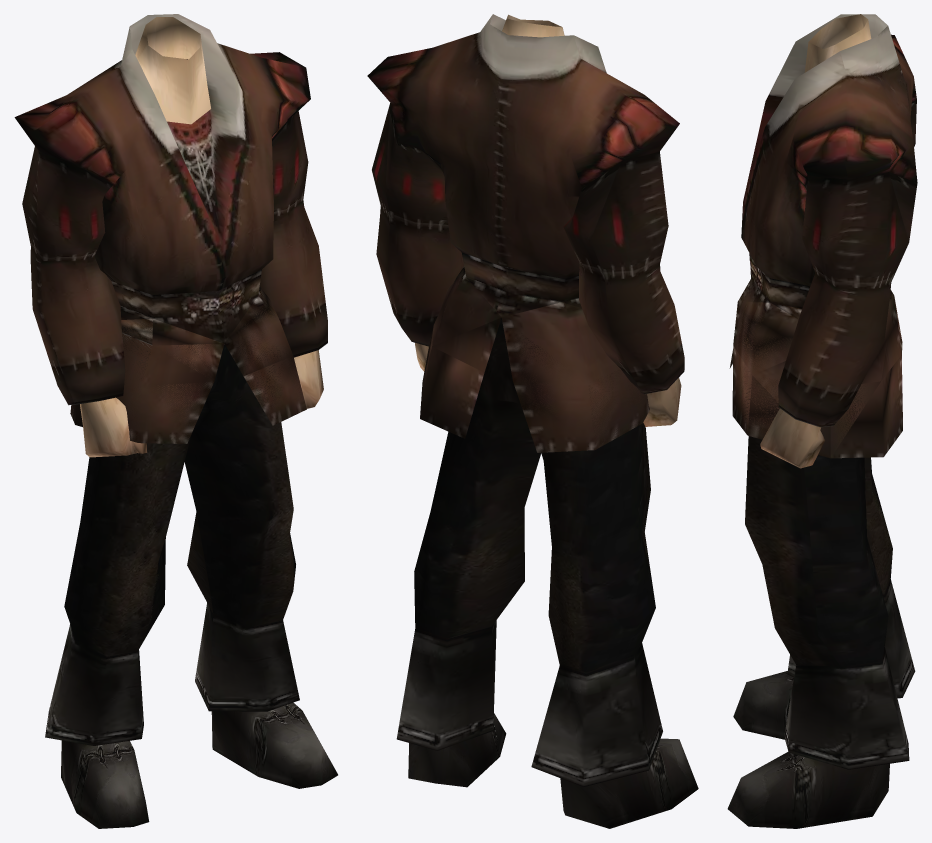
The model's file is ARMOR_VLK_L.glb.
The picture shows the model from 3 angles, left to right: view 1: azimuth 30°, elevation 25°; view 2: azimuth 150°, elevation 25°; view 3: azimuth 270°, elevation 25°; orthographic projection. The views are drawn at different scales.
Parts seen in each view (by area): view 1: ARMOR_VLK_L; view 2: ARMOR_VLK_L; view 3: ARMOR_VLK_L.
Boxes of the visible parts, x1,y1,x2,y2 form: ARMOR_VLK_L: (14,14,337,828); ARMOR_VLK_L: (367,14,698,828); ARMOR_VLK_L: (727,14,917,828).
Bounding box in the file's own units: 0.6514 × 1.69 × 0.3884.
2 materials, 2 textured.
